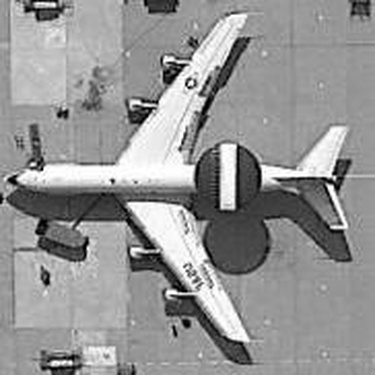airplane: (1, 7, 363, 355)
